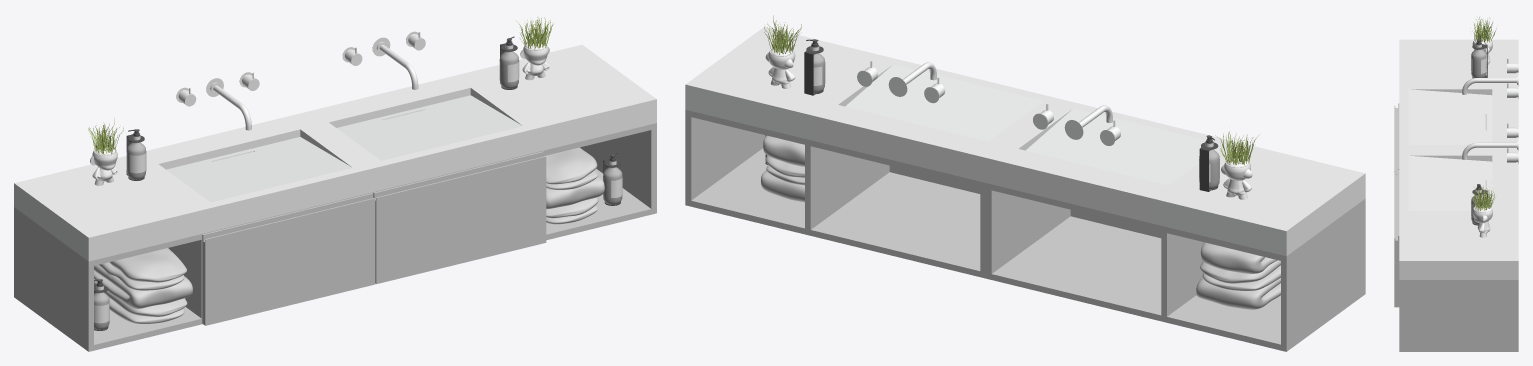
The model's file is V1-2-1NICHE-1TIROIR.glb.
3 views of the same model, side by side, from view 1: azimuth 30°, elevation 25°; view 2: azimuth 150°, elevation 25°; view 3: azimuth 270°, elevation 25° (orthographic). The views are drawn at different scales.
Visible parts, largest first — view 1: Group3, Group11, Group17, Group14, Group15, Group16, Group6, Composant_2_1, Group10, Composant_2_2, Group9, Group5 (+14 smaller); view 2: Group9, Group5, Group17, Group14, Group15, Group16, Group6, Group7, Group10, Group2, Composant_2_1, Group8 (+18 smaller); view 3: Group10, Group16, Group14, Group17, Group15, Group11, Group18, Group13, Group3, Col_de_cygne2, Group62, Group58 (+8 smaller).
Boxes of the visible parts, x1,y1,x2,y2 form: Group3: (202, 193, 375, 325); Group11: (373, 151, 546, 283); Group17: (312, 76, 528, 188); Group14: (146, 117, 358, 230); Group15: (14, 155, 216, 261); Group16: (454, 44, 656, 153); Group6: (14, 207, 93, 351); Composant_2_1: (94, 248, 192, 308); Group10: (580, 123, 656, 214); Composant_2_2: (544, 147, 604, 209); Group9: (546, 168, 651, 240); Group5: (94, 307, 202, 350); Group9: (691, 148, 980, 276); Group5: (991, 216, 1280, 350); Group17: (820, 60, 1049, 179); Group14: (1001, 104, 1229, 223); Group15: (1151, 140, 1365, 256); Group16: (685, 27, 899, 142); Group6: (1281, 199, 1365, 351); Group7: (986, 183, 1070, 279); Group10: (685, 109, 765, 206); Group2: (805, 145, 889, 229); Composant_2_1: (1200, 242, 1280, 290); Group8: (1161, 232, 1204, 316); Group10: (1399, 280, 1518, 351); Group16: (1399, 211, 1518, 279); Group14: (1399, 89, 1518, 144); Group17: (1399, 155, 1518, 210); Group15: (1399, 39, 1518, 94); Group11: (1394, 170, 1399, 307); Group18: (1399, 150, 1518, 159); Group13: (1399, 144, 1517, 150); Group3: (1394, 103, 1399, 174); Col_de_cygne2: (1462, 137, 1518, 159); Group62: (1472, 209, 1492, 237); Group58: (1472, 186, 1494, 211).
Size of the model in its own units: 20 by 5.89 by 4.74.
